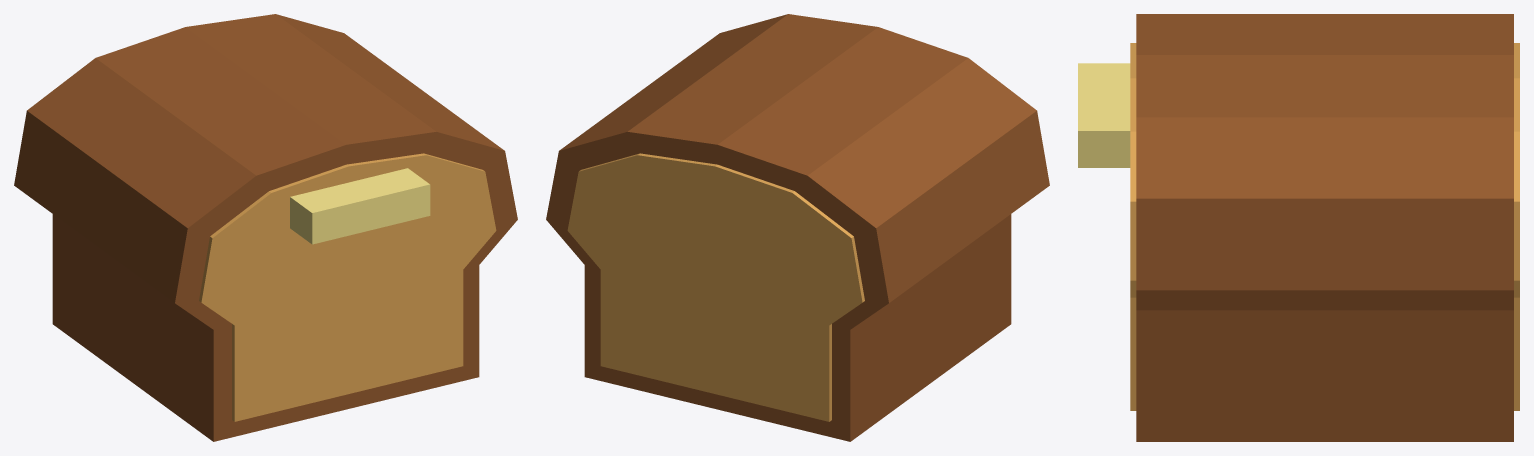
Rendered from Food_Toast.obj.
The picture shows the model from 3 angles, left to right: view 1: azimuth 30°, elevation 25°; view 2: azimuth 150°, elevation 25°; view 3: azimuth 270°, elevation 25°; orthographic projection. The views are drawn at different scales.
Bounding box in the file's own units: 1.6 × 1.18 × 1.52.
